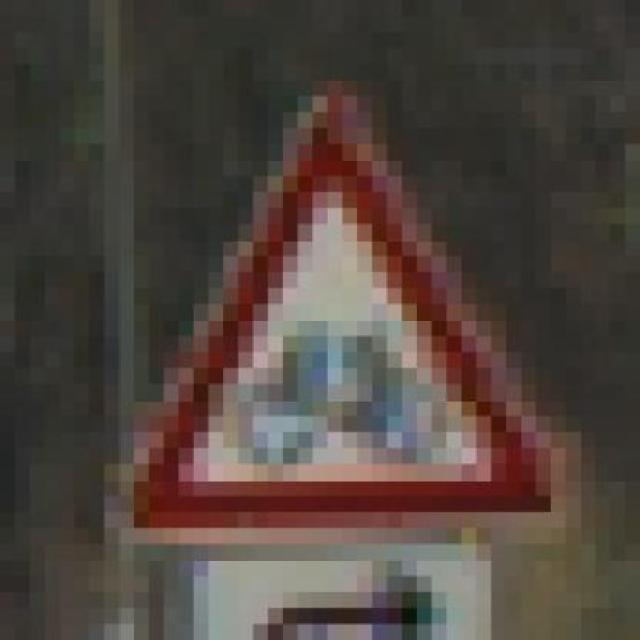CYCLE ROUTE AHEAD WARNING: (89, 64, 580, 544)
